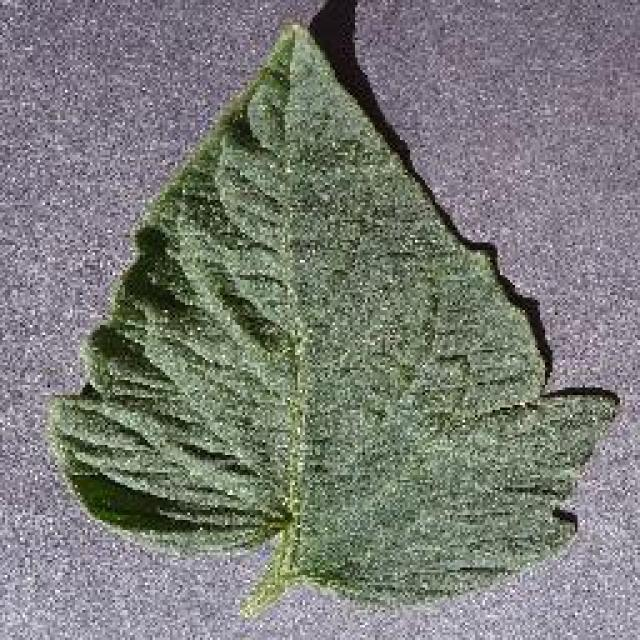Tomato___healthy: (44, 21, 627, 618)
